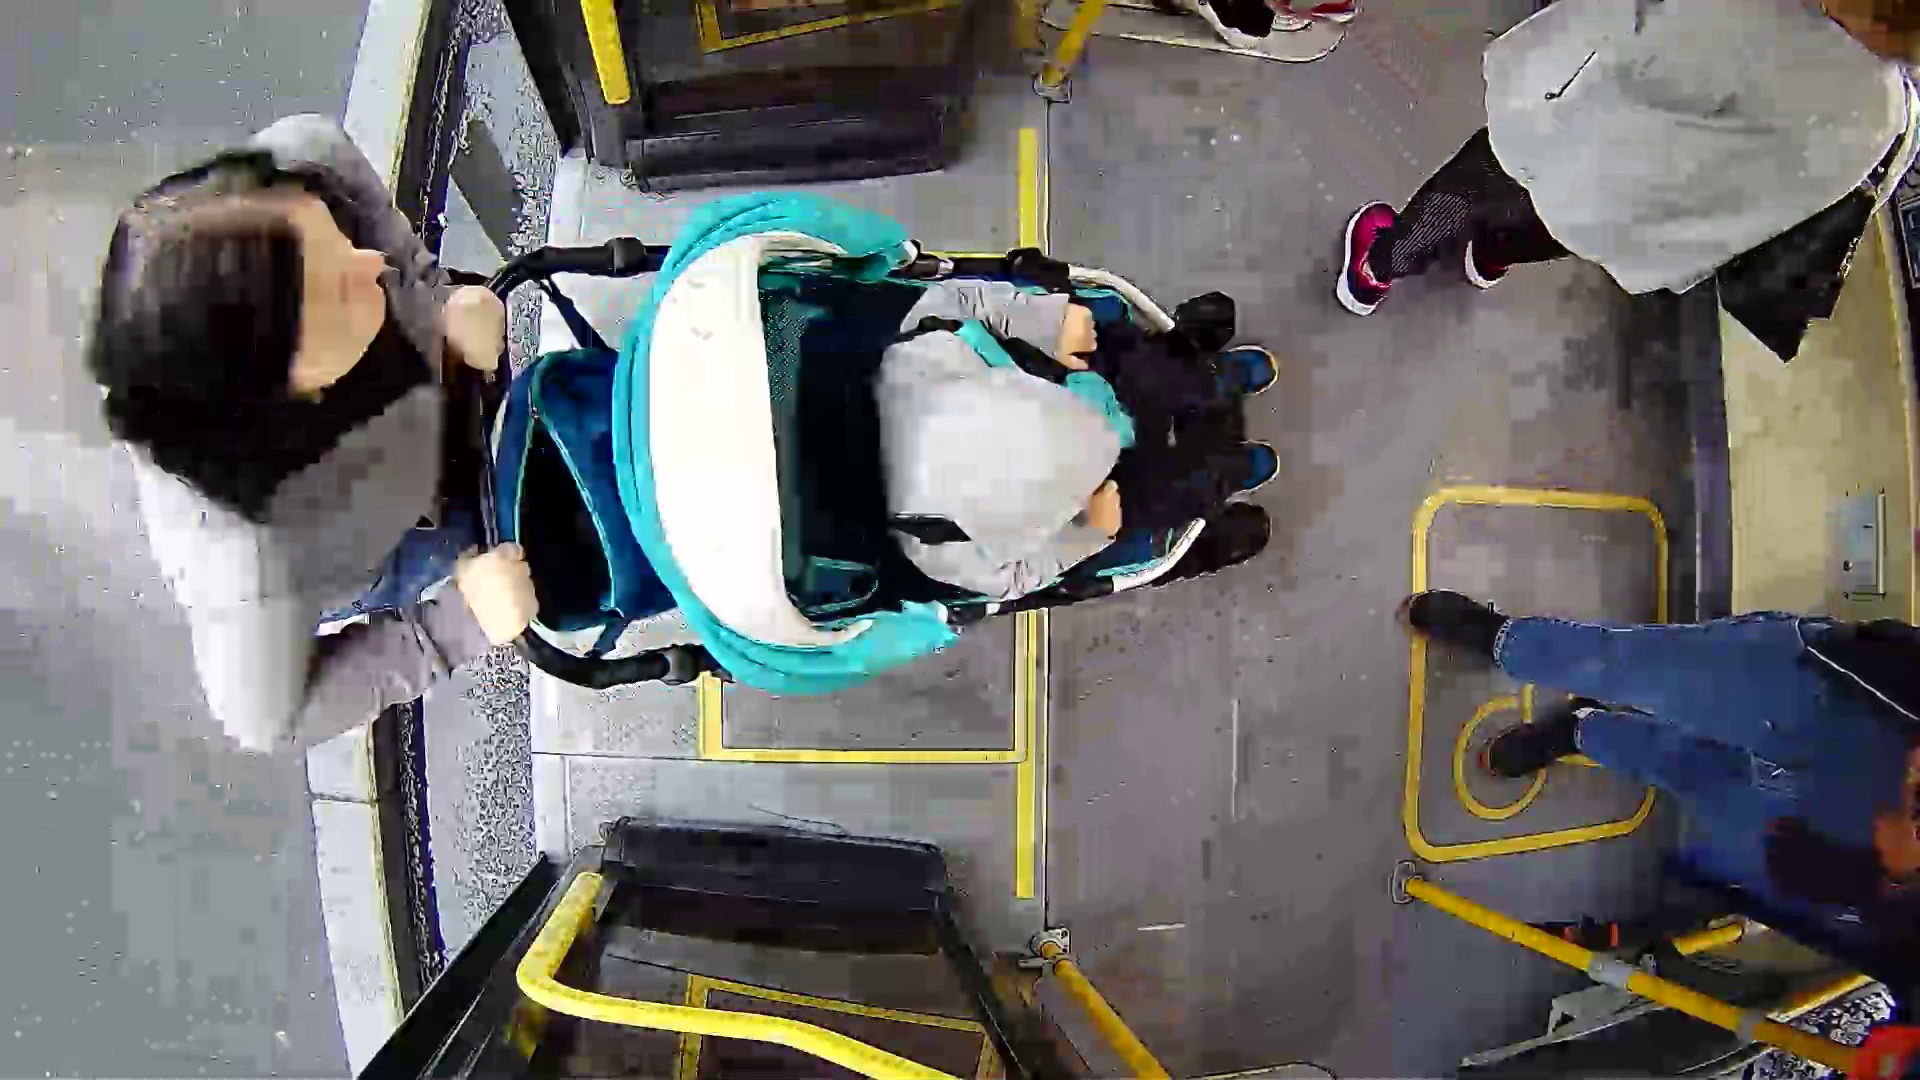person: (82, 47, 841, 736)
